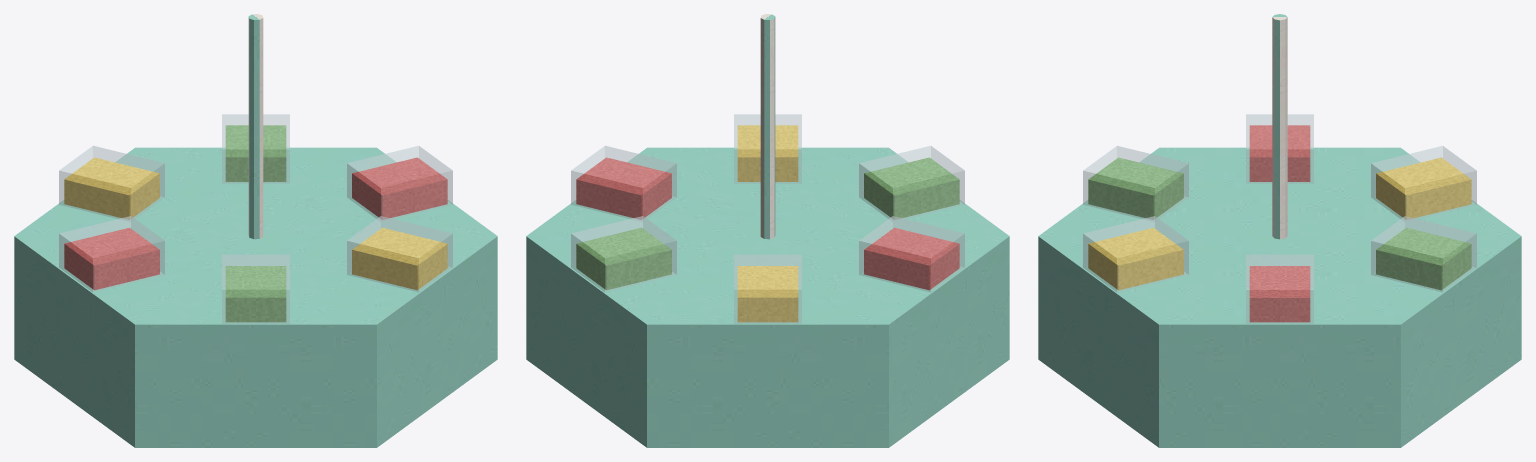
The picture shows the model from 3 angles, left to right: view 1: azimuth 30°, elevation 25°; view 2: azimuth 150°, elevation 25°; view 3: azimuth 270°, elevation 25°; orthographic projection.
Visible parts, largest first — view 1: Decor_pick_mix_island; view 2: Decor_pick_mix_island; view 3: Decor_pick_mix_island.
Boxes of the visible parts, box(x1,y1,x2,y2) form: Decor_pick_mix_island: box(14, 14, 497, 447); Decor_pick_mix_island: box(526, 14, 1009, 447); Decor_pick_mix_island: box(1038, 14, 1521, 447).
Size of the model in its own units: 2.77 by 2.5 by 3.2.
Materials: 6 (6 with a texture image).
